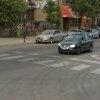Car: (35, 27, 92, 57)
